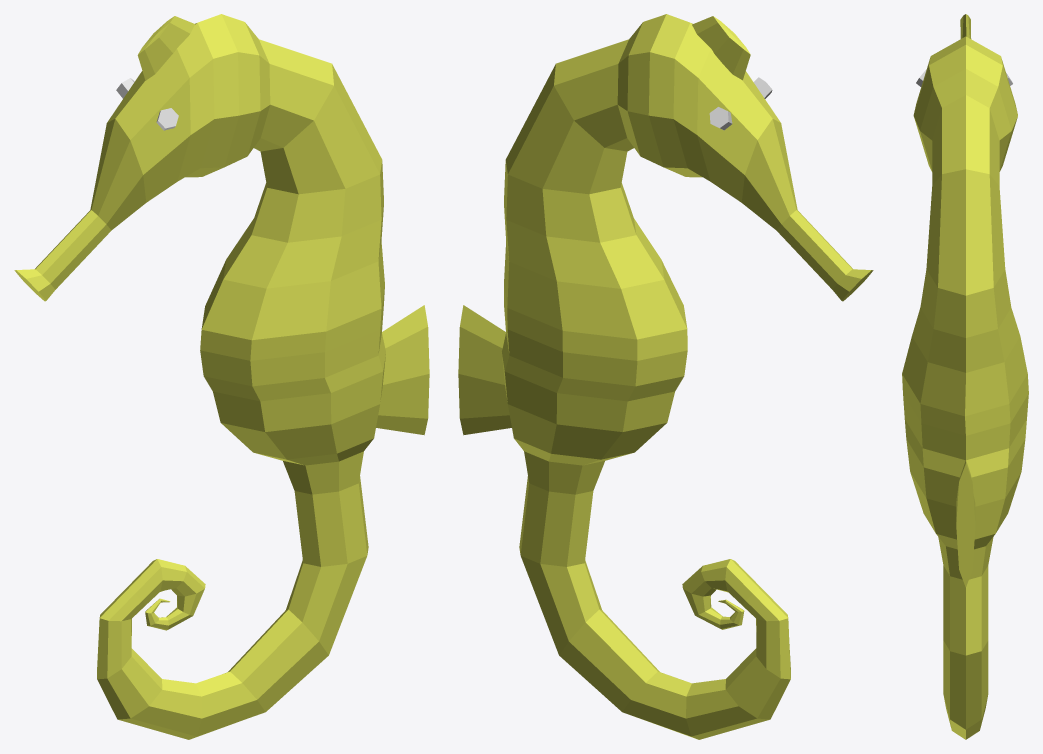
The model's file is hypo.fbx.
3 views of the same model, side by side, from view 1: azimuth 30°, elevation 25°; view 2: azimuth 150°, elevation 25°; view 3: azimuth 270°, elevation 25° (orthographic). The views are drawn at different scales.
Visible parts, largest first — view 1: Cylinder, Cone, Cone.001; view 2: Cylinder, Cone, Cone.001; view 3: Cylinder, Cone, Cone.001.
Boxes of the visible parts, x1,y1,x2,y2 form: Cylinder: (14, 14, 385, 739); Cone: (376, 305, 429, 435); Cone.001: (137, 16, 195, 80); Cylinder: (502, 14, 873, 739); Cone: (458, 305, 511, 435); Cone.001: (692, 16, 750, 80); Cylinder: (902, 36, 1028, 739); Cone: (956, 460, 975, 587); Cone.001: (960, 14, 971, 38).
Bounding box in the file's own units: 423 × 720 × 119.
